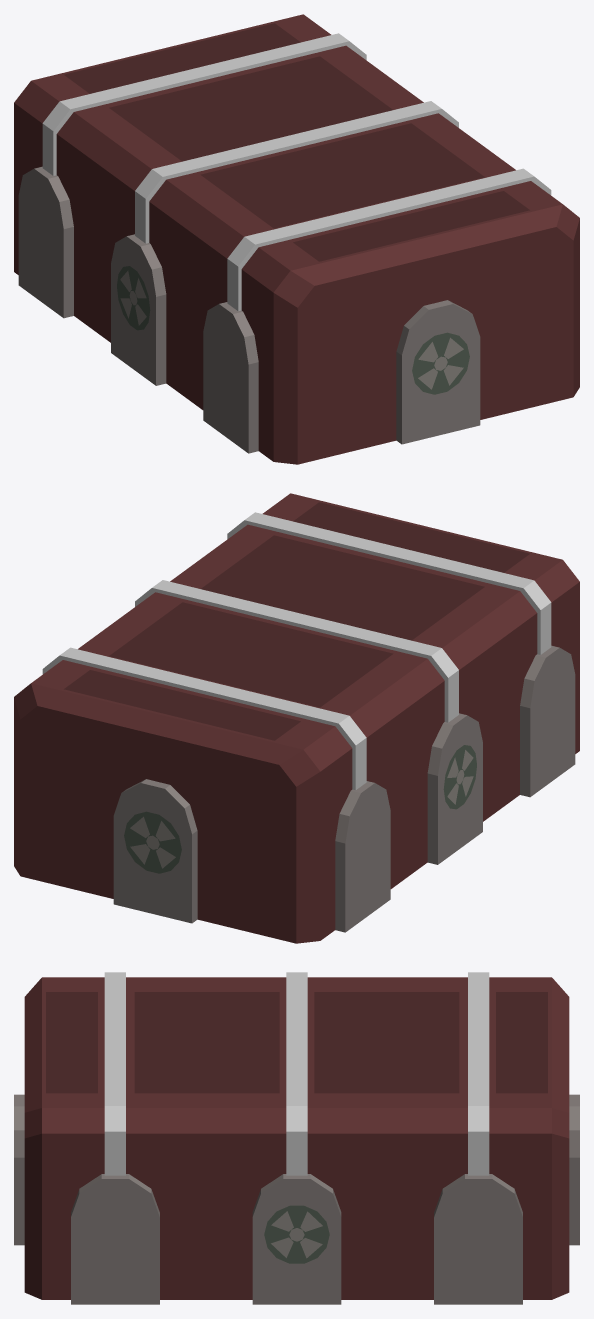
The model's file is vce_tank_chem.obj.
3 renders of one model, top to bottom at view 1: azimuth 30°, elevation 25°; view 2: azimuth 150°, elevation 25°; view 3: azimuth 270°, elevation 25°, orthographic.
Size of the model in its own units: 1.92 by 1.07 by 2.93.
